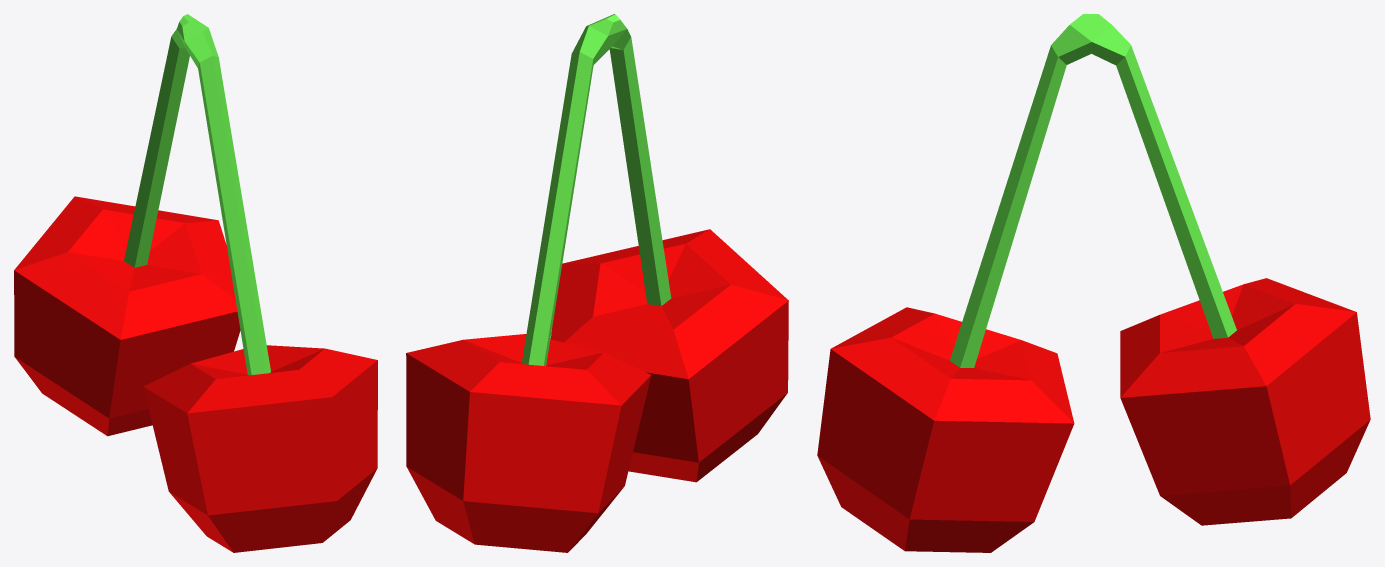
Rendered from cherry03.gltf.
3 views of the same model, side by side, from view 1: azimuth 30°, elevation 25°; view 2: azimuth 150°, elevation 25°; view 3: azimuth 270°, elevation 25° (orthographic). The views are drawn at different scales.
Visible parts, largest first — view 1: Cylinder; view 2: Cylinder; view 3: Cylinder.
Boxes of the visible parts, bbox=[...] form: Cylinder: bbox=[14, 14, 377, 552]; Cylinder: bbox=[406, 14, 788, 552]; Cylinder: bbox=[817, 14, 1370, 552].
Size of the model in its own units: 0.0265 by 0.0572 by 0.0558.
Materials: 1 (1 with a texture image).
